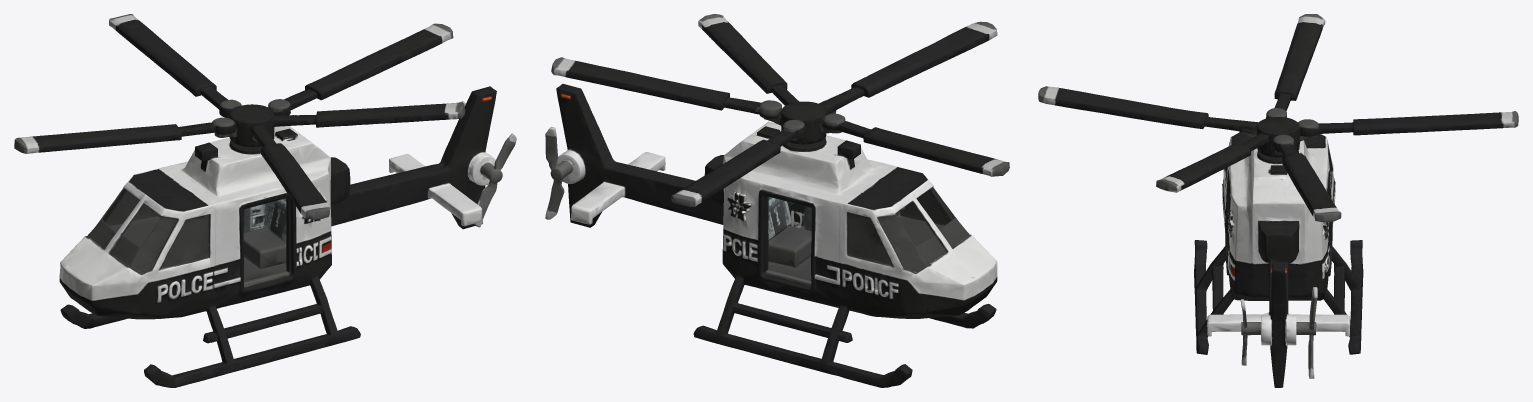
The model's file is helicopter.glb.
The picture shows the model from 3 angles, left to right: view 1: azimuth 30°, elevation 25°; view 2: azimuth 150°, elevation 25°; view 3: azimuth 270°, elevation 25°; orthographic projection. The views are drawn at different scales.
Visible parts, largest first — view 1: geometry_0; view 2: geometry_0; view 3: geometry_0.
Boxes of the visible parts, x1,y1,x2,y2 form: geometry_0: (14, 14, 516, 387); geometry_0: (545, 14, 1009, 387); geometry_0: (1038, 14, 1518, 387).
Size of the model in its own units: 12 by 5.68 by 11.37.
1 material, 1 textured.
